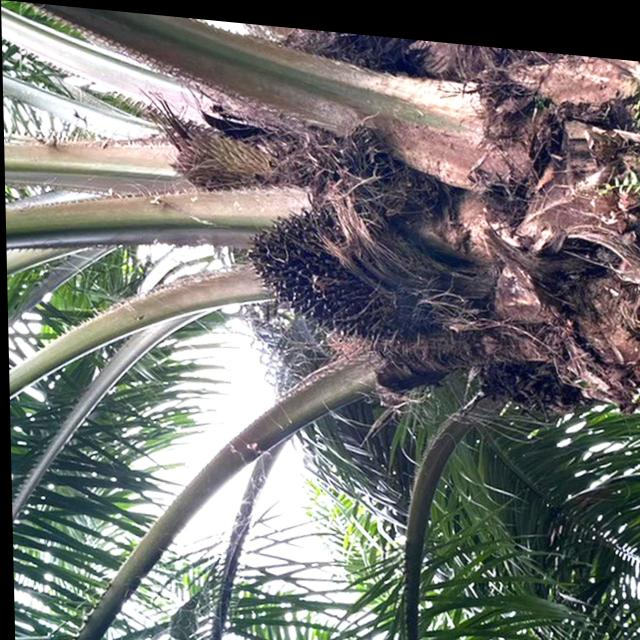unripe: (243, 193, 424, 350)
